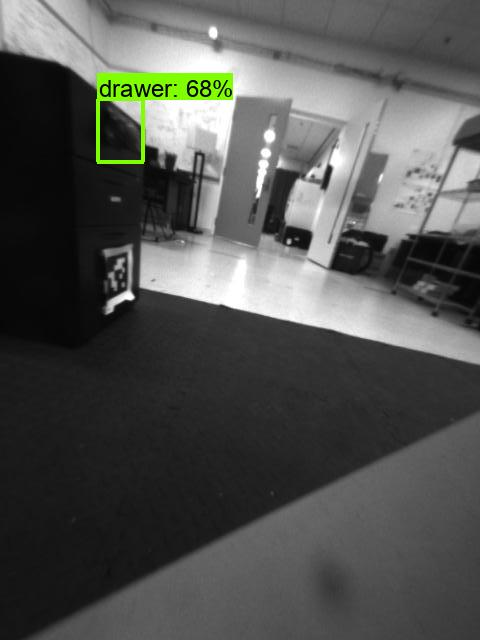drawer: (95, 102, 146, 163)
